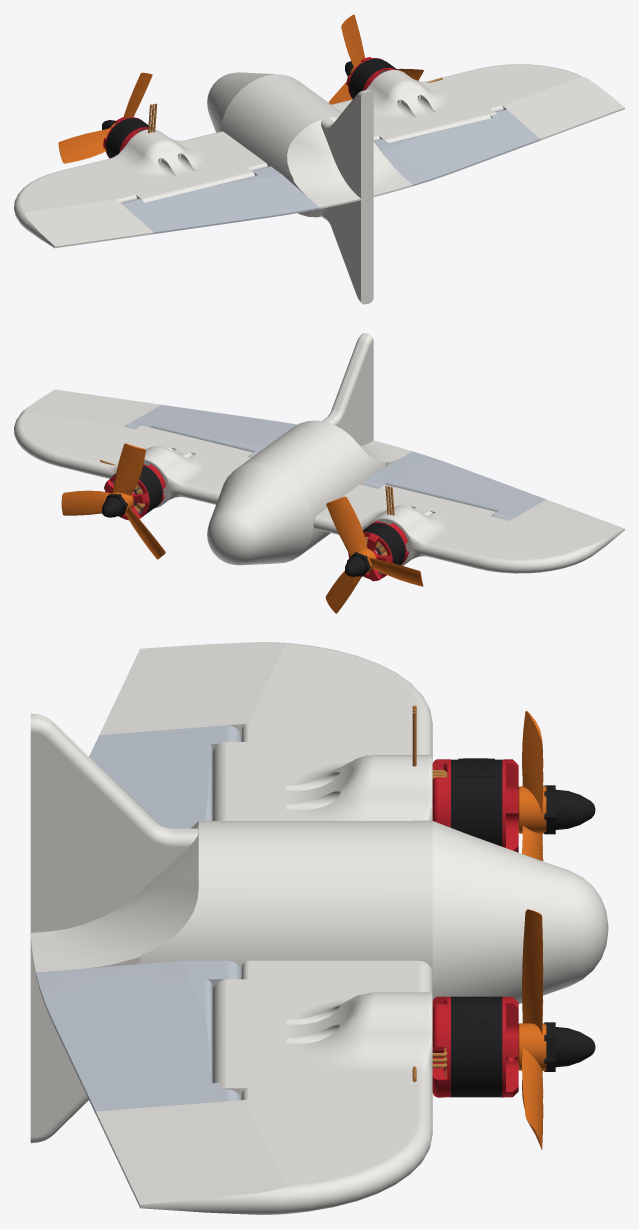
File: assembly.glb
3 views of the same model, one above another, from view 1: azimuth 30°, elevation 25°; view 2: azimuth 150°, elevation 25°; view 3: azimuth 270°, elevation 25° (orthographic). The views are drawn at different scales.
Visible parts, largest first — view 1: anim_vtol_8_centre, anim_vtol_6_inner_L, anim_vtol_7_inner_R, anim_vtol_4_outer_L, anim_vtol_2_elevon_L, anim_vtol_5_outer_R, anim_vtol_3_elevon_R, anim_vtol_1_prop_L, anim_vtol_0_prop_R, anim_vtol_11_motor_L_rotor, anim_vtol_9_motor_R_rotor; view 2: anim_vtol_8_centre, anim_vtol_6_inner_L, anim_vtol_4_outer_L, anim_vtol_7_inner_R, anim_vtol_5_outer_R, anim_vtol_2_elevon_L, anim_vtol_3_elevon_R, anim_vtol_0_prop_R, anim_vtol_1_prop_L, anim_vtol_11_motor_L_rotor, anim_vtol_9_motor_R_rotor, anim_vtol_12_motor_L_stator; view 3: anim_vtol_8_centre, anim_vtol_7_inner_R, anim_vtol_5_outer_R, anim_vtol_4_outer_L, anim_vtol_3_elevon_R, anim_vtol_6_inner_L, anim_vtol_2_elevon_L, anim_vtol_9_motor_R_rotor, anim_vtol_11_motor_L_rotor, anim_vtol_0_prop_R, anim_vtol_1_prop_L, anim_vtol_10_motor_R_stator (+1 smaller).
Boxes of the visible parts, x1,y1,x2,y2 form: anim_vtol_8_centre: [207, 72, 412, 304]; anim_vtol_6_inner_L: [73, 129, 267, 203]; anim_vtol_7_inner_R: [331, 69, 508, 142]; anim_vtol_4_outer_L: [14, 168, 153, 248]; anim_vtol_2_elevon_L: [121, 166, 319, 233]; anim_vtol_5_outer_R: [463, 64, 624, 140]; anim_vtol_3_elevon_R: [373, 109, 540, 186]; anim_vtol_1_prop_L: [58, 72, 152, 163]; anim_vtol_0_prop_R: [328, 14, 423, 104]; anim_vtol_11_motor_L_rotor: [102, 117, 150, 158]; anim_vtol_9_motor_R_rotor: [345, 57, 397, 99]; anim_vtol_8_centre: [207, 333, 412, 565]; anim_vtol_6_inner_L: [313, 484, 508, 565]; anim_vtol_4_outer_L: [463, 499, 624, 573]; anim_vtol_7_inner_R: [70, 425, 252, 508]; anim_vtol_5_outer_R: [14, 389, 161, 469]; anim_vtol_2_elevon_L: [362, 451, 545, 520]; anim_vtol_3_elevon_R: [126, 405, 296, 457]; anim_vtol_0_prop_R: [61, 443, 165, 559]; anim_vtol_1_prop_L: [325, 496, 423, 613]; anim_vtol_11_motor_L_rotor: [345, 523, 405, 581]; anim_vtol_9_motor_R_rotor: [102, 465, 162, 520]; anim_vtol_12_motor_L_stator: [365, 486, 408, 573]; anim_vtol_8_centre: [30, 713, 608, 1143]; anim_vtol_7_inner_R: [212, 960, 432, 1117]; anim_vtol_5_outer_R: [96, 1100, 432, 1214]; anim_vtol_4_outer_L: [99, 642, 432, 735]; anim_vtol_3_elevon_R: [36, 960, 241, 1114]; anim_vtol_6_inner_L: [212, 723, 432, 820]; anim_vtol_2_elevon_L: [89, 725, 241, 828]; anim_vtol_9_motor_R_rotor: [451, 996, 595, 1097]; anim_vtol_11_motor_L_rotor: [451, 758, 595, 852]; anim_vtol_0_prop_R: [518, 909, 546, 1149]; anim_vtol_1_prop_L: [518, 711, 546, 861]; anim_vtol_10_motor_R_stator: [412, 996, 450, 1097].
Bounding box in the file's own units: 0.36 × 0.128 × 0.1579.
